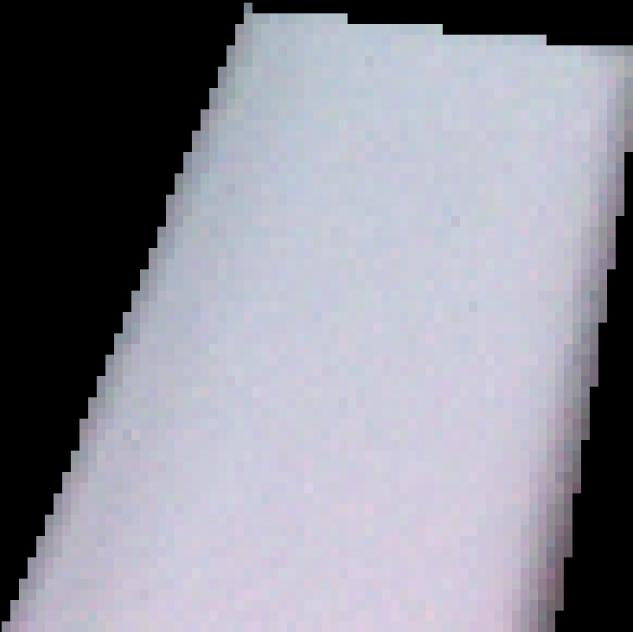lane: (0, 0, 633, 632)
